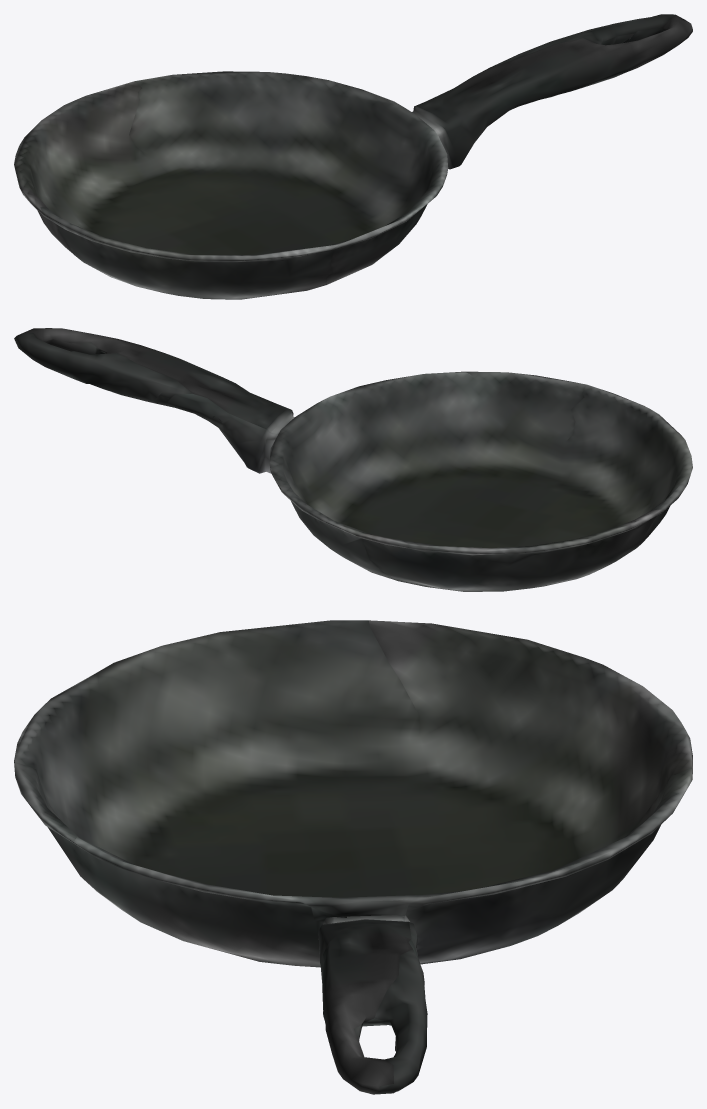
The model's file is Chefmate_8_Frypan-medium.glb.
3 views of the same model, one above another, from view 1: azimuth 30°, elevation 25°; view 2: azimuth 150°, elevation 25°; view 3: azimuth 270°, elevation 25° (orthographic). The views are drawn at different scales.
Visible parts, largest first — view 1: Chefmate_8_Frypan; view 2: Chefmate_8_Frypan; view 3: Chefmate_8_Frypan.
Part boxes in pixels (x1,y1,x2,y2): Chefmate_8_Frypan: (14,14,692,299); Chefmate_8_Frypan: (14,328,692,591); Chefmate_8_Frypan: (14,620,692,1094).
Bounding box in the file's own units: 0.3558 × 0.055 × 0.2037.
Materials: 1 (1 with a texture image).
